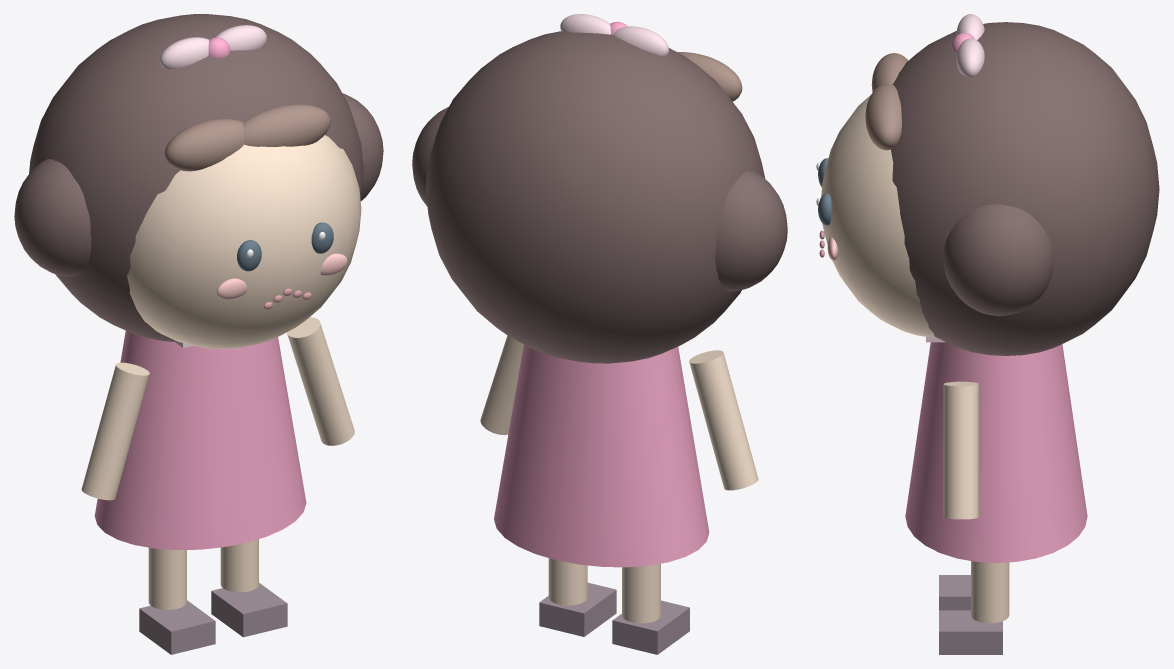
File: chaea.glb
3 views of the same model, side by side, from view 1: azimuth 30°, elevation 25°; view 2: azimuth 150°, elevation 25°; view 3: azimuth 270°, elevation 25° (orthographic).
Parts seen in each view (by area): view 1: hair cap, face, dress, left bun, left arm, right arm, right bang, left bang, left shoe, right shoe, left leg, right bun (+4 smaller); view 2: hair cap, dress, left bun, left arm, right shoe, left shoe, right arm, left leg, right leg, right bun, left bang, tiny top bow left (+1 smaller); view 3: hair cap, dress, face, right bun, right arm, right shoe, right leg, right bang, left shoe, tiny top bow right, left bang.
Boxes of the visible parts, x1,y1,x2,y2 form: hair cap: (29, 14, 363, 341); face: (127, 135, 361, 348); dress: (94, 331, 306, 550); left bun: (14, 159, 91, 276); left arm: (81, 362, 149, 500); right arm: (287, 317, 354, 445); right bang: (243, 104, 330, 146); left bang: (164, 118, 244, 171); left shoe: (139, 600, 215, 654); right shoe: (211, 583, 287, 637); left leg: (148, 547, 186, 609); right bun: (342, 93, 383, 201); hair cap: (425, 31, 765, 363); dress: (494, 344, 709, 567); left bun: (715, 170, 787, 291); left arm: (689, 350, 758, 490); right shoe: (539, 582, 616, 636); left shoe: (612, 600, 689, 654); right arm: (480, 335, 523, 434); left leg: (622, 563, 660, 623); right leg: (548, 558, 587, 605); right bun: (412, 107, 448, 206); left bang: (678, 52, 742, 101); tiny top bow left: (613, 26, 668, 56); hair cap: (891, 22, 1159, 355); dress: (905, 342, 1087, 562); face: (821, 95, 936, 337); right bun: (943, 204, 1053, 315); right arm: (943, 381, 978, 519); right shoe: (939, 610, 1002, 654); right leg: (971, 561, 1009, 623); right bang: (865, 83, 901, 150); left shoe: (939, 575, 970, 610); tiny top bow right: (956, 38, 984, 77); left bang: (871, 53, 908, 91).
Bounding box in the file's own units: 1.28 × 2.06 × 1.07.
